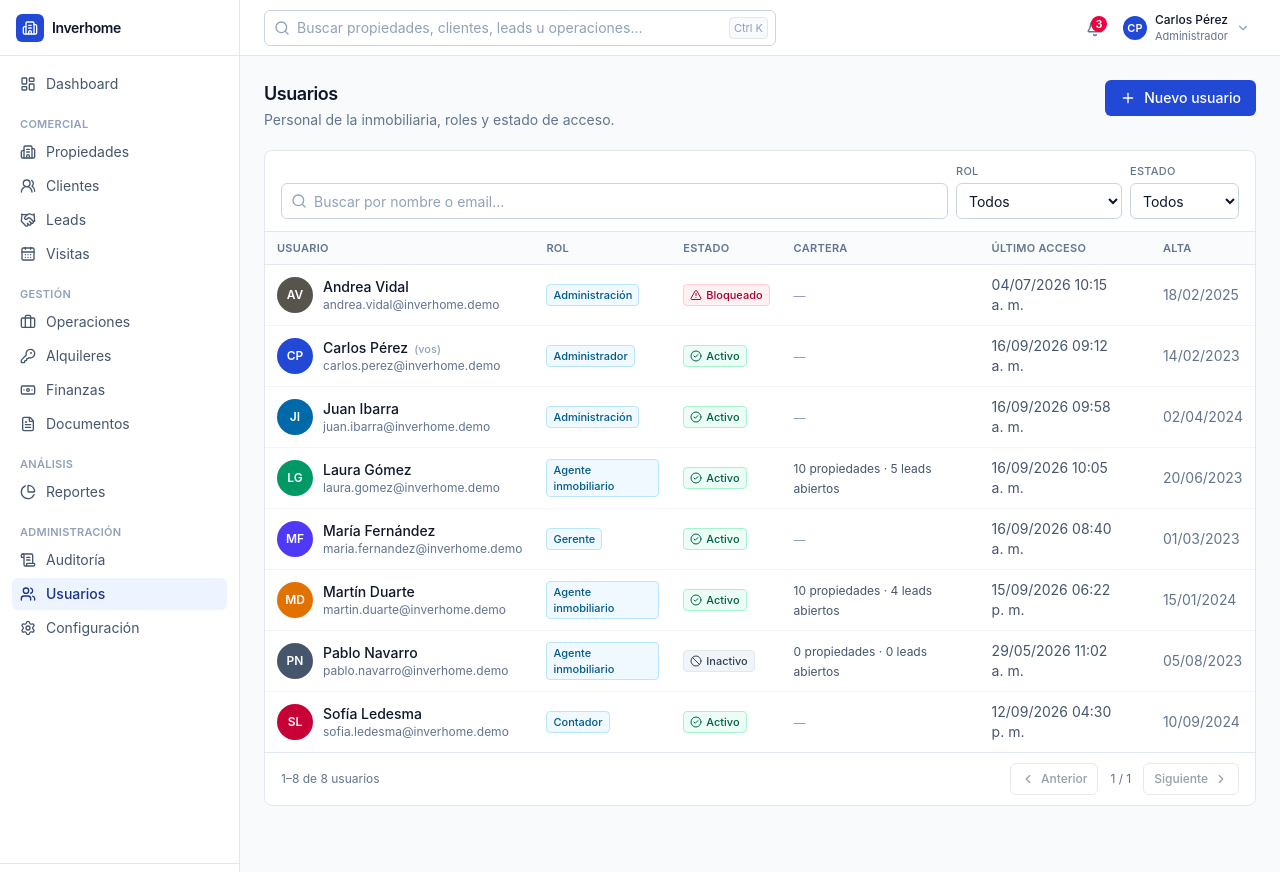
Navegación › oculta y bloquea los módulos que el rol no puede ver
Check: the heading "Usuarios" is shown, box [264,83,338,104]
# Switch the demo session to an agent, who cannot manage users.
Click the button "Carlos Pérez".
click(1186, 28)  # box [1117,10,1256,46]
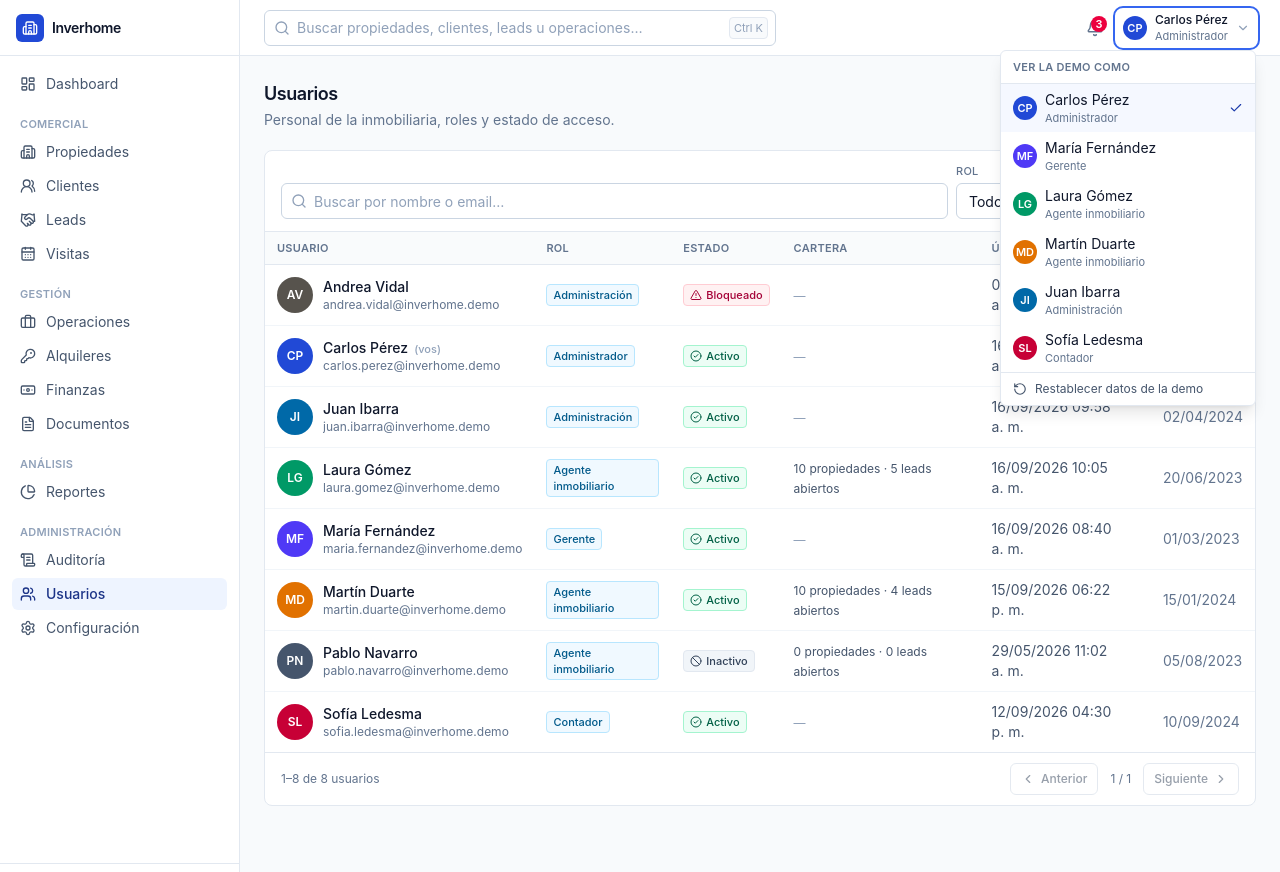
Click the menu item "LG Laura Gómez Agente inmobiliario".
click(1128, 204)  # box [1001,180,1255,228]
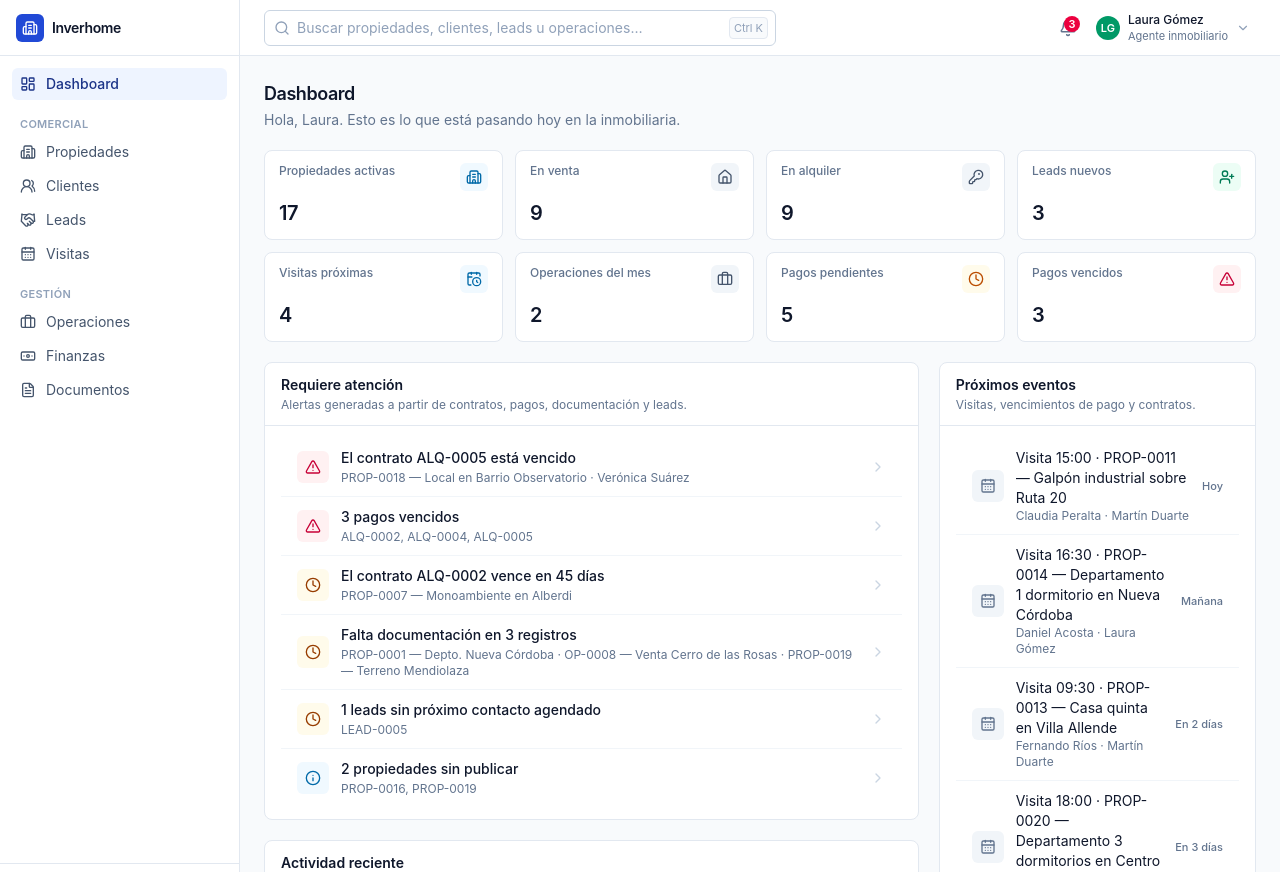
Check: the heading "Dashboard" is shown, box [264,83,355,104]
Check: the link "Usuarios" is gone
Check: the link "Auditoría" is gone
# Direct navigation is refused too: the guard explains instead of redirecting.
Click the link "Finanzas".
click(62, 356)  # box [20,347,105,364]
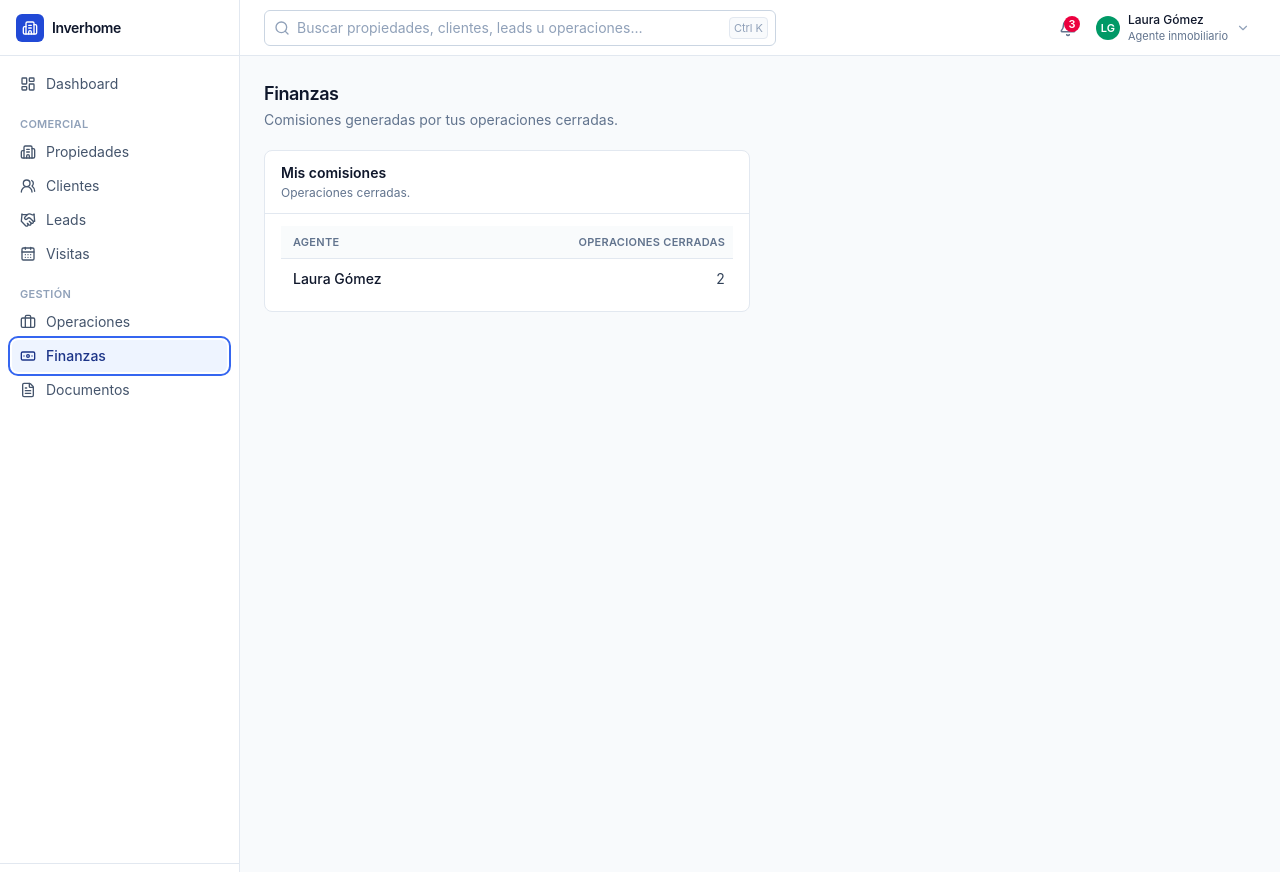
Check: the heading "Finanzas" is shown, box [264,83,338,104]
Check: the heading "Mis comisiones" is shown, box [281,164,386,181]
